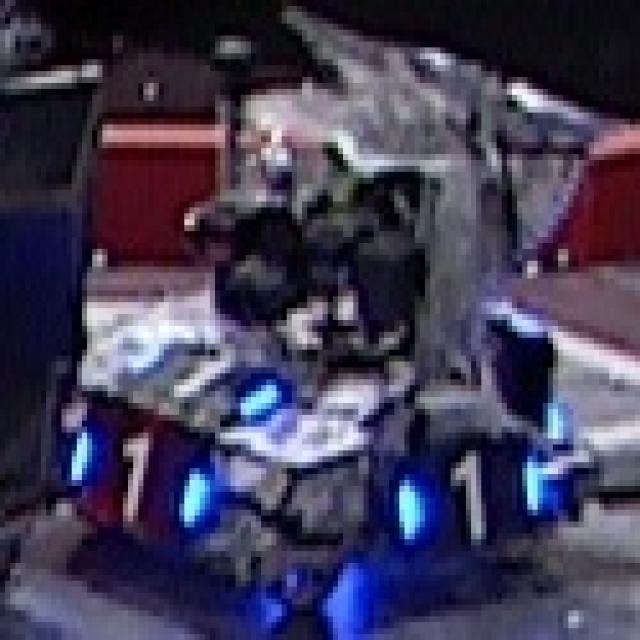B1: (371, 439, 561, 557), (46, 415, 215, 533), (112, 332, 282, 415)
